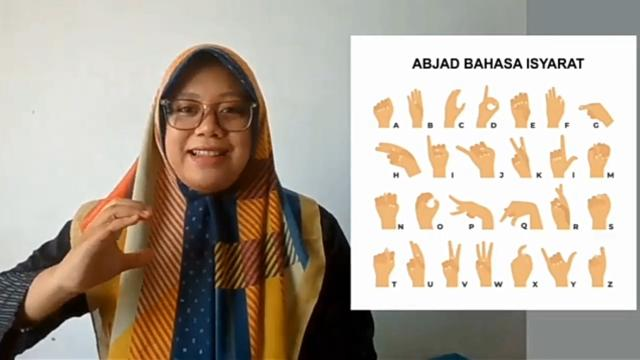C: (62, 196, 154, 288)
